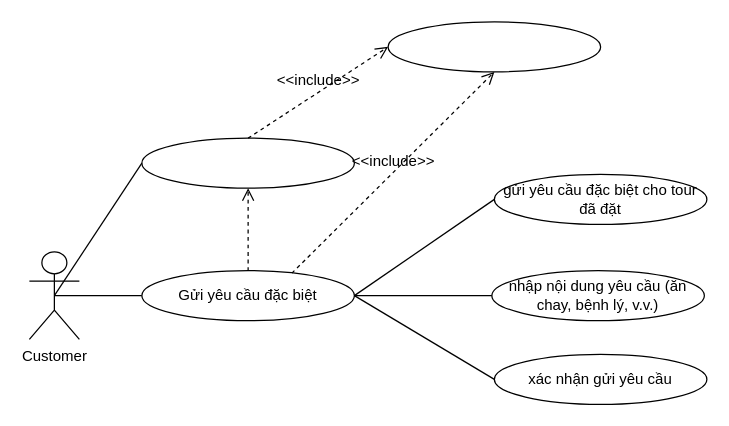
Image size: 729x426. Some labels were removed from this diagram. Each missing label, with the centre of its shape:
"Đăng nhập" goes at point (494, 46).
"Đặt tour" goes at point (247, 162).
